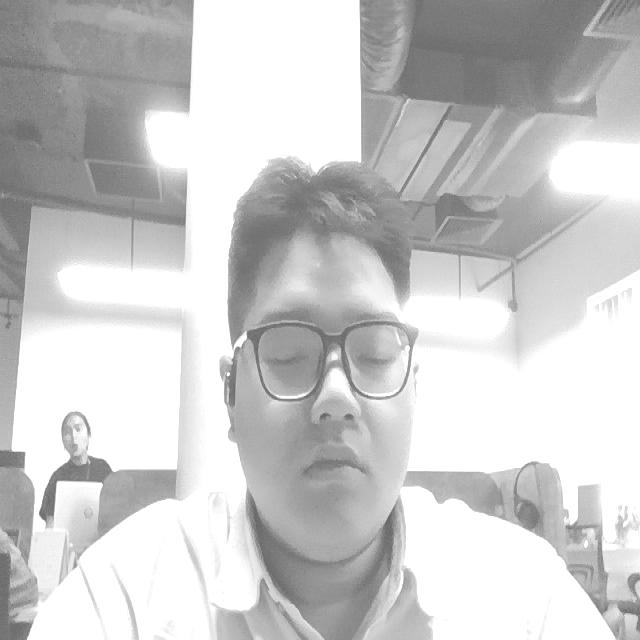real: (215, 153, 426, 569), (243, 316, 421, 397)
